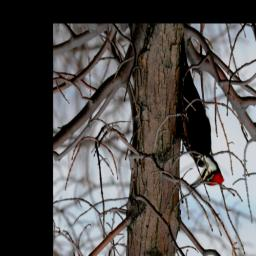Woodpecker: (174, 29, 224, 191)
